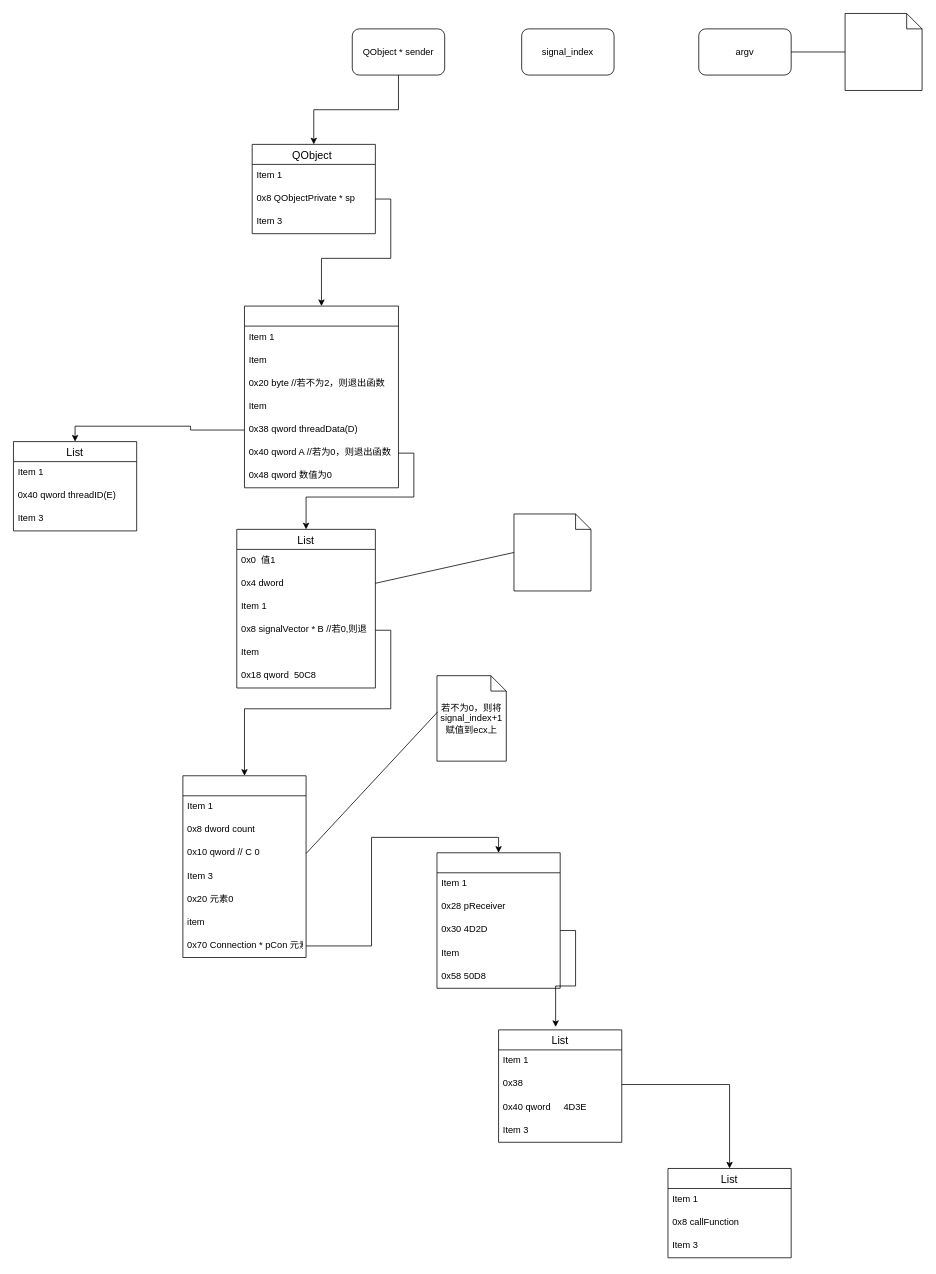
The diagram is 936 pixels wide and 1274 high, and some of its shapes have lost their labels. The box of each missing label's shape, as (x1, y1, x2, y2) in pixels:
Connection: (436, 852, 560, 988)
QObjectPrivate: (244, 305, 398, 488)
signalVector: (182, 775, 306, 957)
检测是否有参数，若有参数将值赋值给r14: (844, 13, 922, 90)
这里在获取connections，数量减了1: (513, 513, 591, 591)
